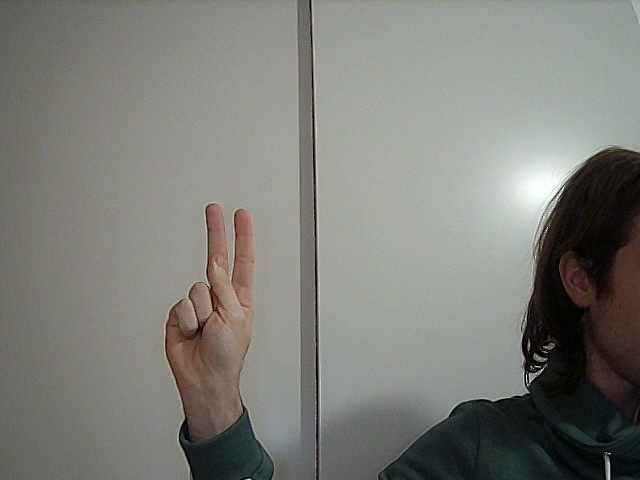k: (133, 191, 290, 392)
